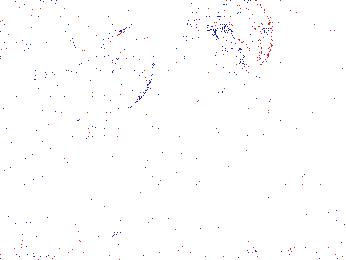moon jellyfish: (1, 1, 87, 80), (84, 27, 155, 119), (187, 36, 264, 118), (206, 1, 273, 68), (239, 96, 327, 144)
